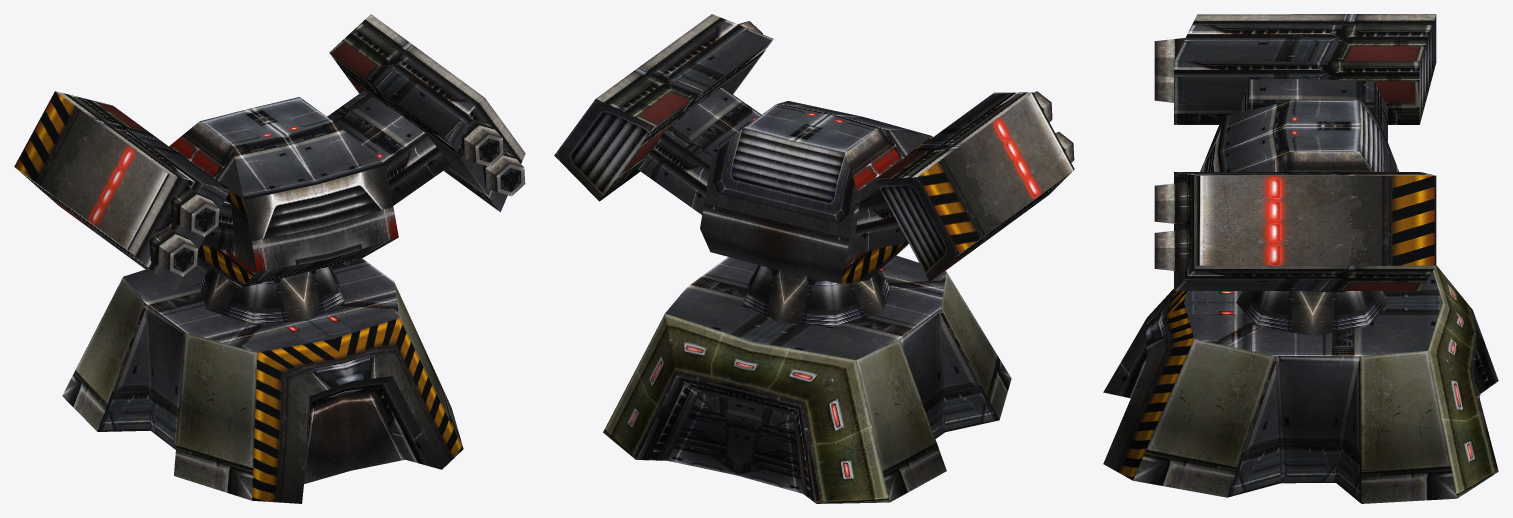
The model's file is r-launcher-04.DAE.
3 renders of one model, left to right at view 1: azimuth 30°, elevation 25°; view 2: azimuth 150°, elevation 25°; view 3: azimuth 270°, elevation 25°, orthographic. The views are drawn at different scales.
Visible parts, largest first — view 1: r-launcher-04; view 2: r-launcher-04; view 3: r-launcher-04.
Part boxes in pixels (x1,y1,x2,y2): r-launcher-04: [14, 14, 525, 503]; r-launcher-04: [554, 14, 1074, 503]; r-launcher-04: [1103, 14, 1498, 503].
Size of the model in its own units: 4.5 by 3.7 by 3.44.
